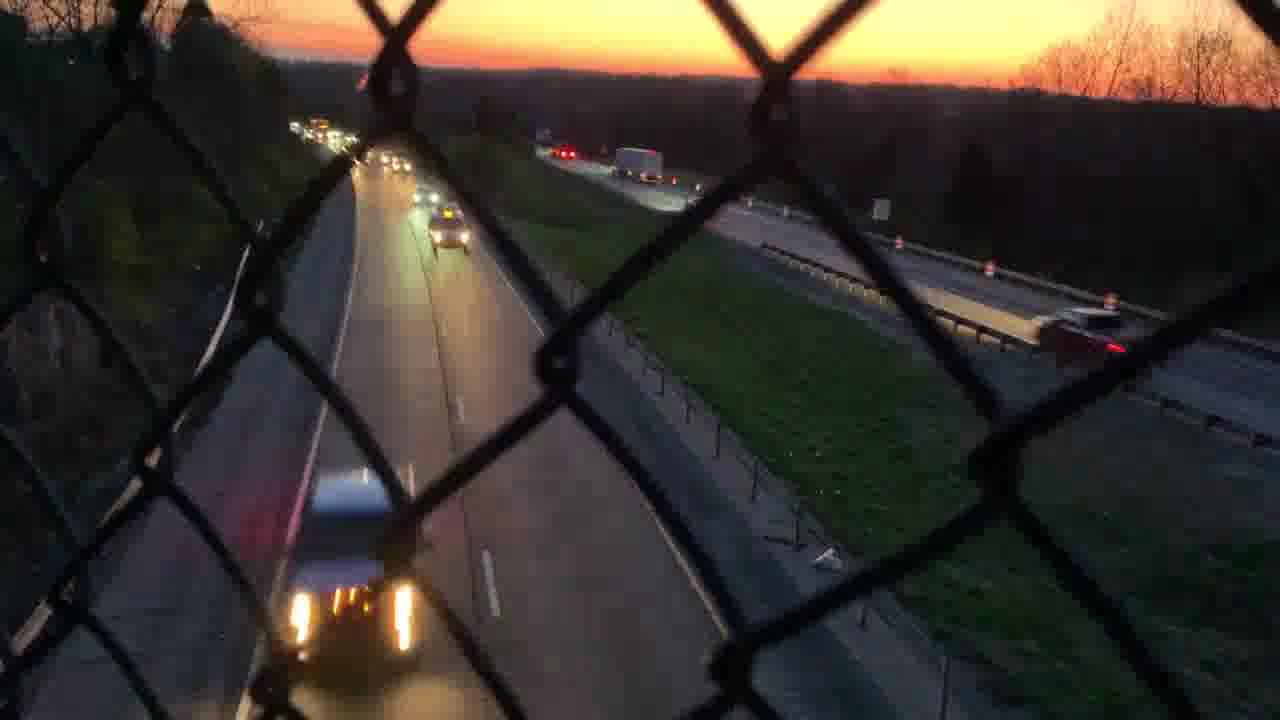heavyTruck: (610, 144, 667, 186)
largeCar: (285, 463, 417, 677)
lightTruck: (1030, 306, 1150, 376)
smallCar: (423, 204, 477, 262)
